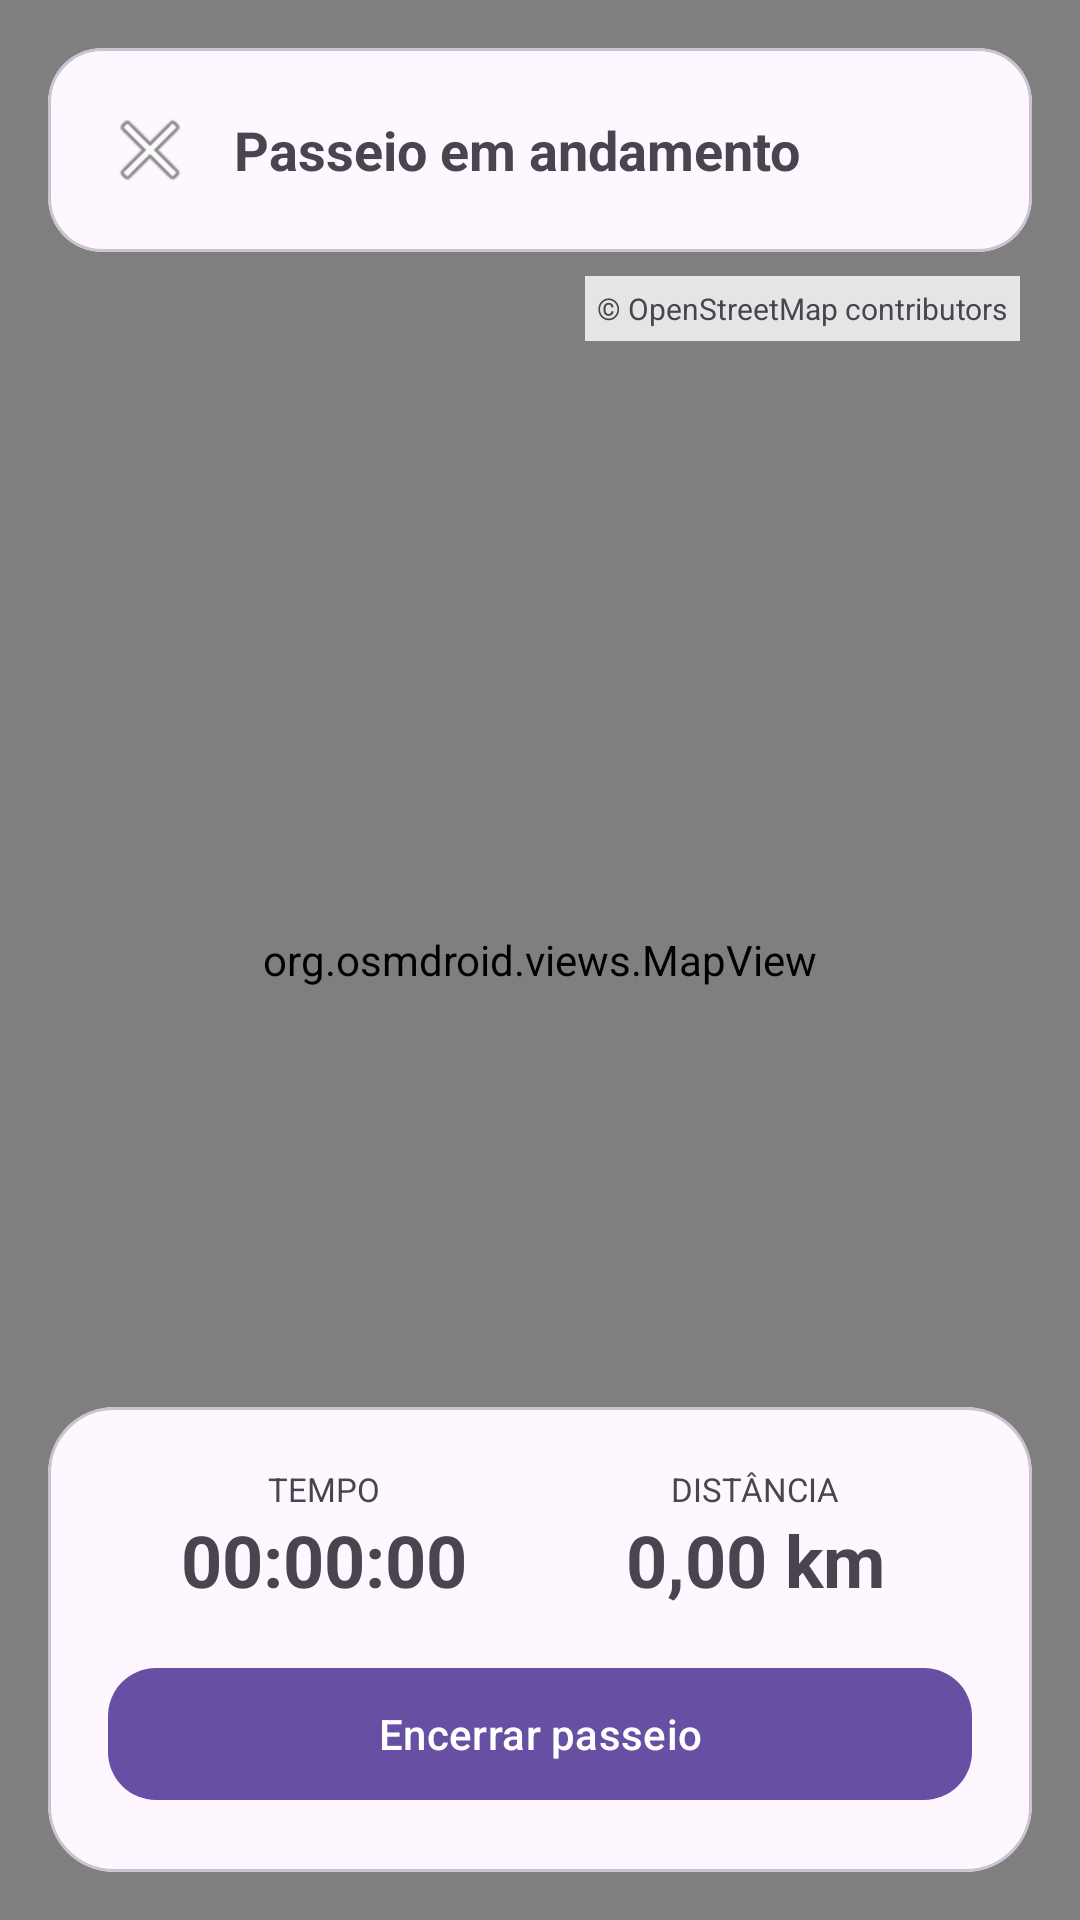

Locate icon controls on the screen. Image size 1080 x 1920, boxes as (x1, y1, x2, y2).
Voltar: (120, 120, 180, 180)
